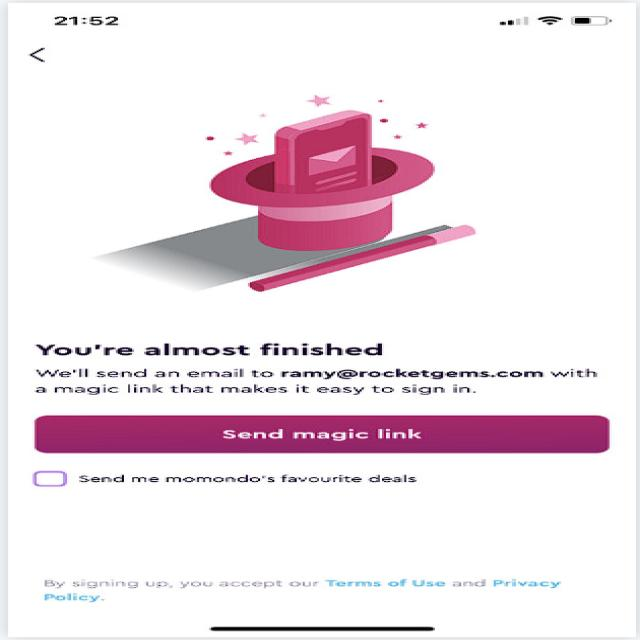button: (3, 406, 628, 461)
icon button: (10, 36, 91, 72)
image: (2, 83, 640, 318)
spacer: (18, 494, 579, 563)
text: (0, 329, 640, 401), (18, 568, 588, 608), (18, 466, 444, 490)
